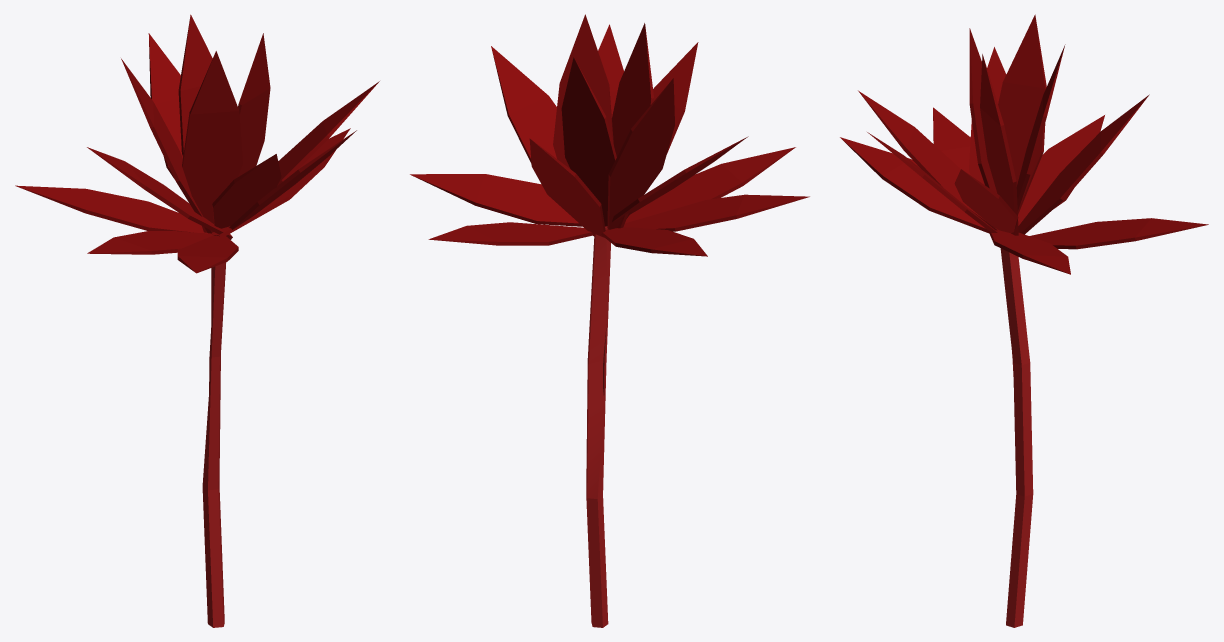
File: Plant_e_02.fbx
The picture shows the model from 3 angles, left to right: view 1: azimuth 30°, elevation 25°; view 2: azimuth 150°, elevation 25°; view 3: azimuth 270°, elevation 25°; orthographic projection.
Parts seen in each view (by area): view 1: Plant_e_02_LOD0; view 2: Plant_e_02_LOD0; view 3: Plant_e_02_LOD0.
Part boxes in pixels (<box>): Plant_e_02_LOD0: <box>15,14,379,627</box>; Plant_e_02_LOD0: <box>410,14,809,627</box>; Plant_e_02_LOD0: <box>840,14,1208,627</box>.
Size of what is drawn, in the model's own units: 9.23 by 15.71 by 9.01.
